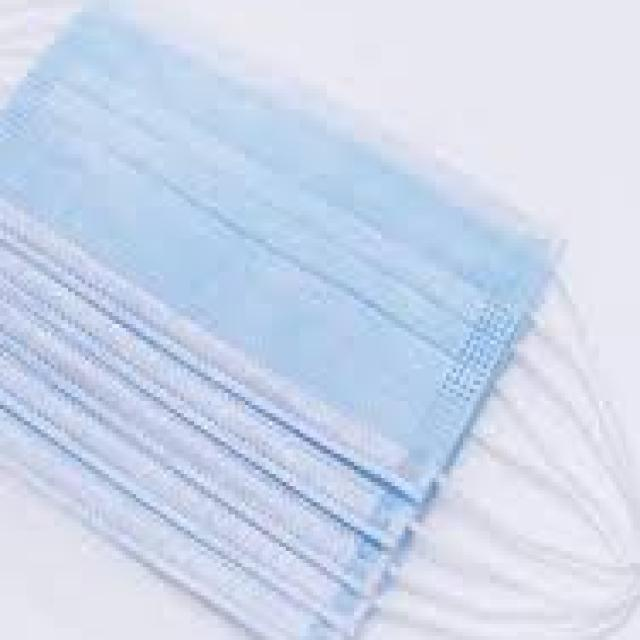organic: (9, 25, 608, 618)
